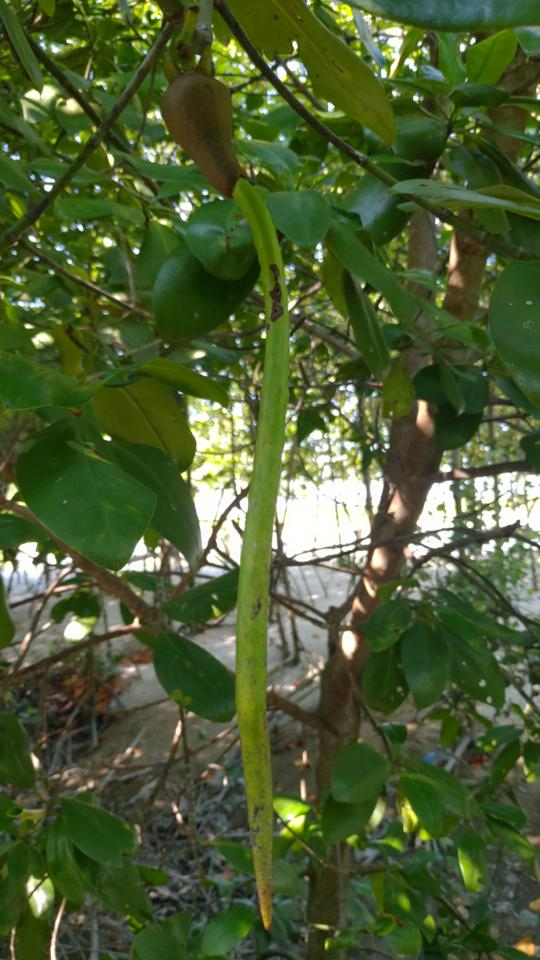mentah: (143, 38, 315, 934)
